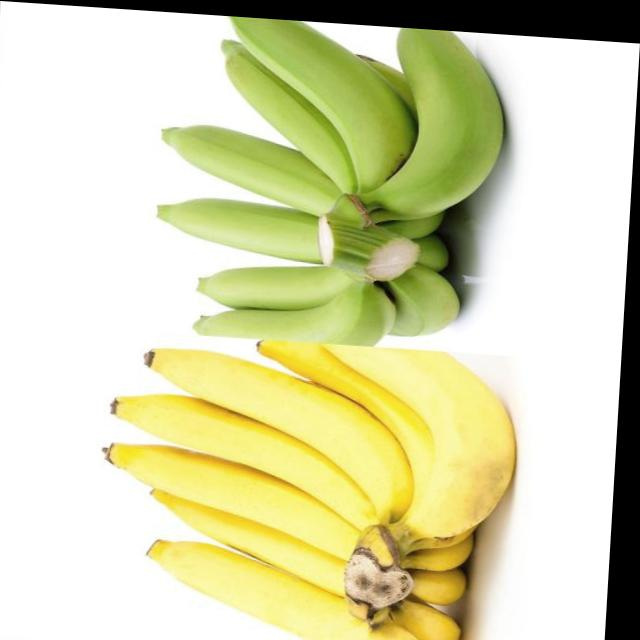banana: (144, 11, 556, 369), (91, 327, 536, 640)
